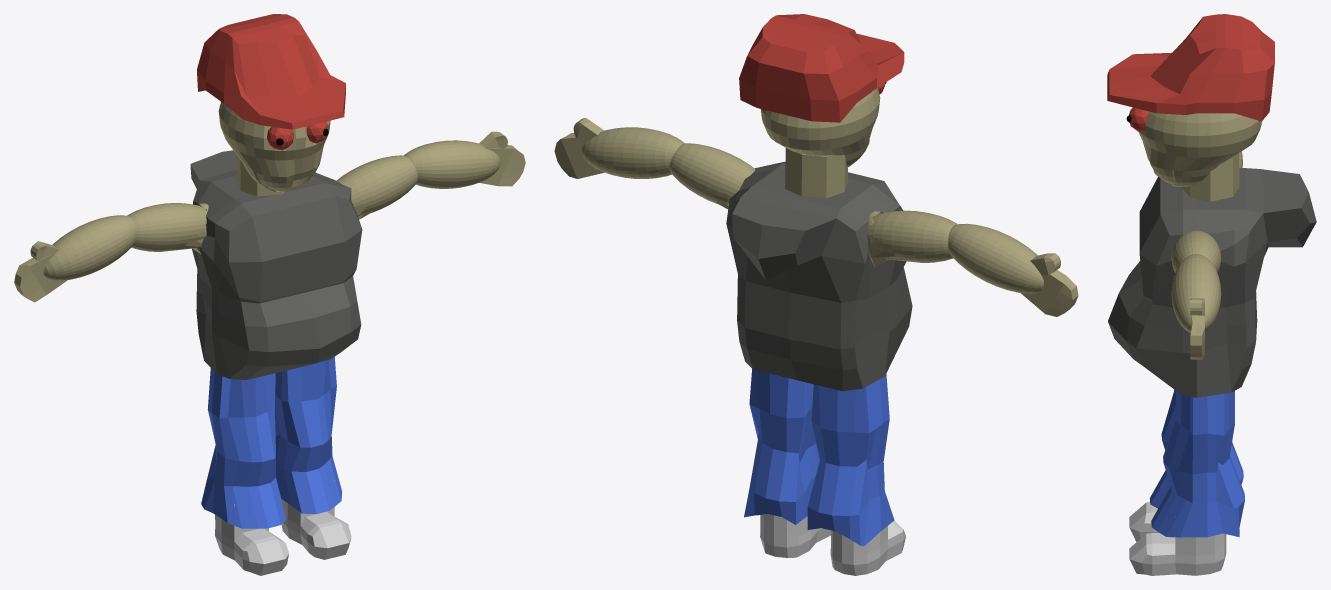
The model's file is Nylon.fbx.
The picture shows the model from 3 angles, left to right: view 1: azimuth 30°, elevation 25°; view 2: azimuth 150°, elevation 25°; view 3: azimuth 270°, elevation 25°; orthographic projection. The views are drawn at different scales.
Visible parts, largest first — view 1: Cube.002; view 2: Cube.002; view 3: Cube.002.
Boxes of the visible parts, left/top/right/bottom form: Cube.002: left=14, top=14, right=525, bottom=575; Cube.002: left=554, top=14, right=1078, bottom=575; Cube.002: left=1107, top=14, right=1316, bottom=575.
Bounding box in the file's own units: 603 × 591 × 214.
